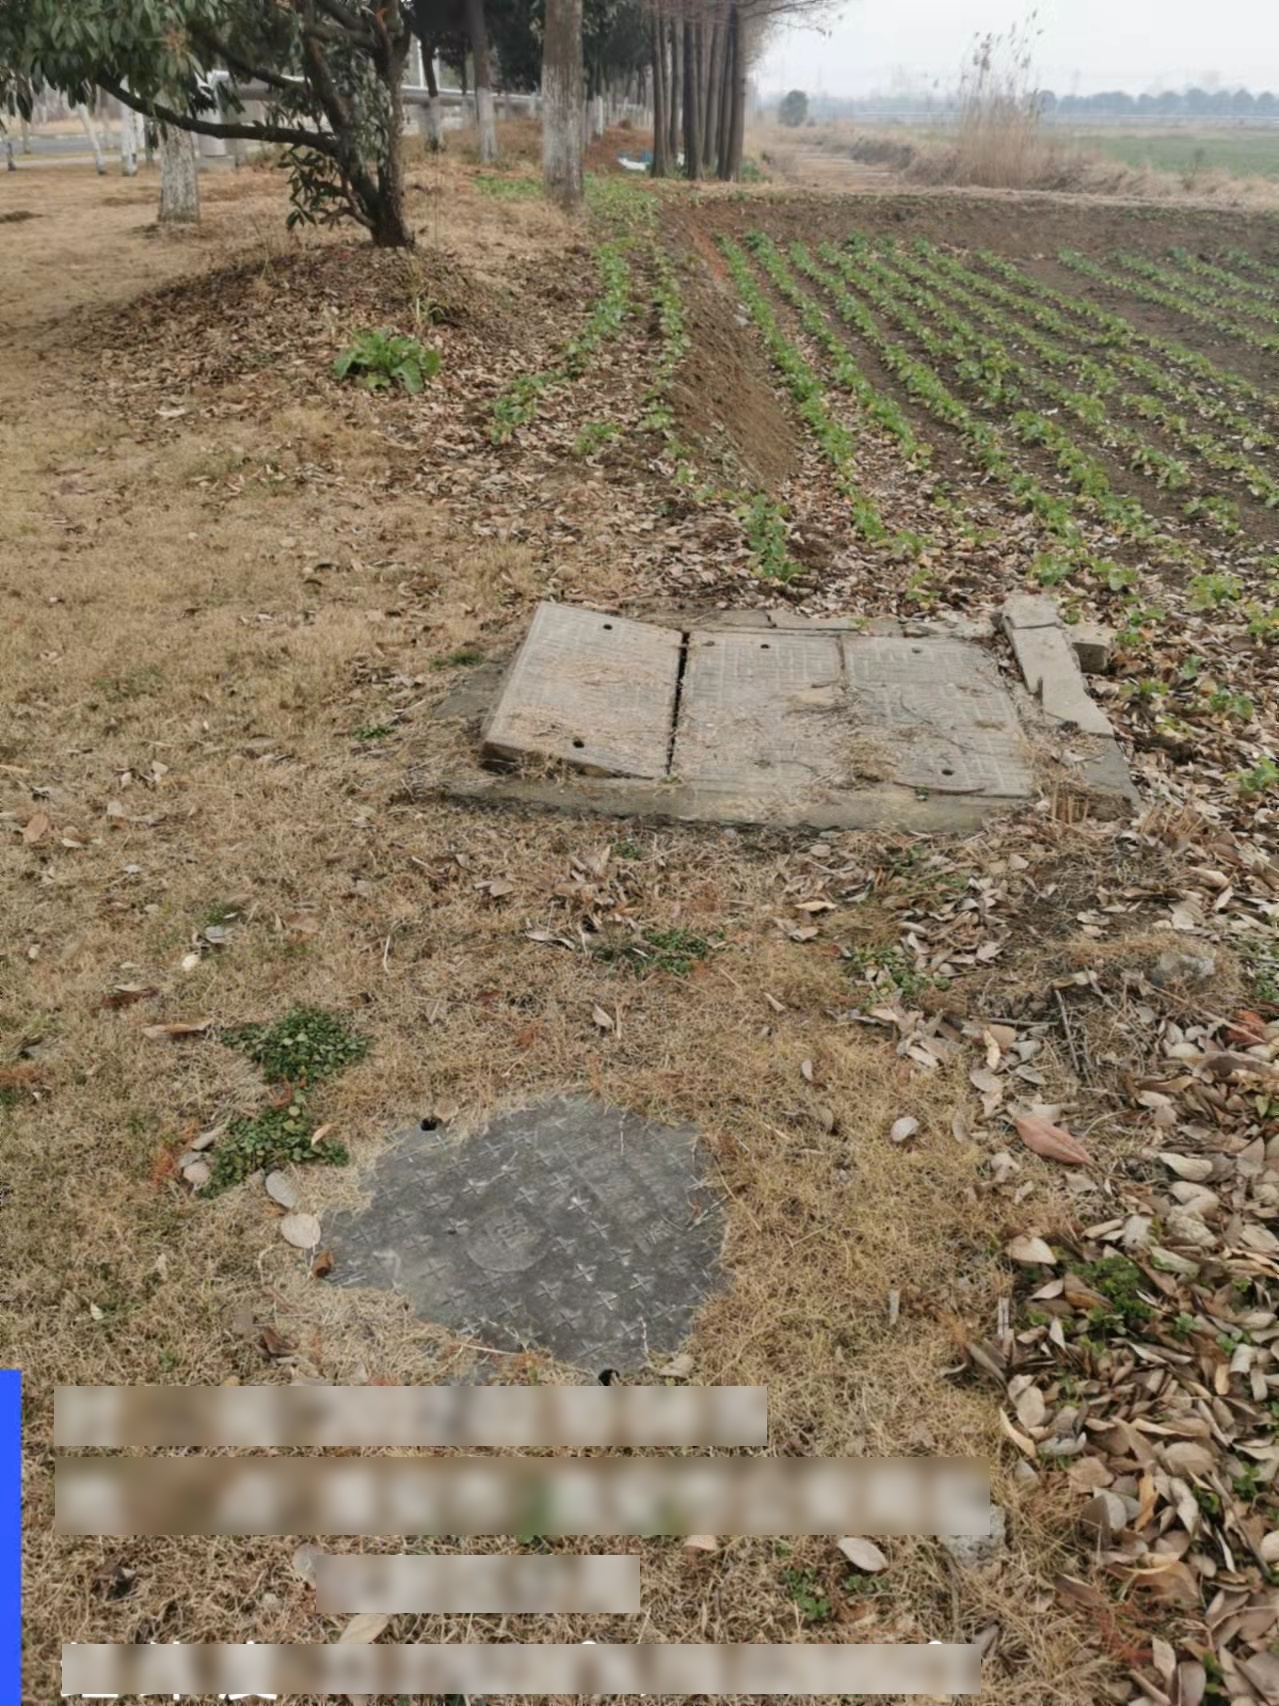well: (459, 611, 1060, 810)
